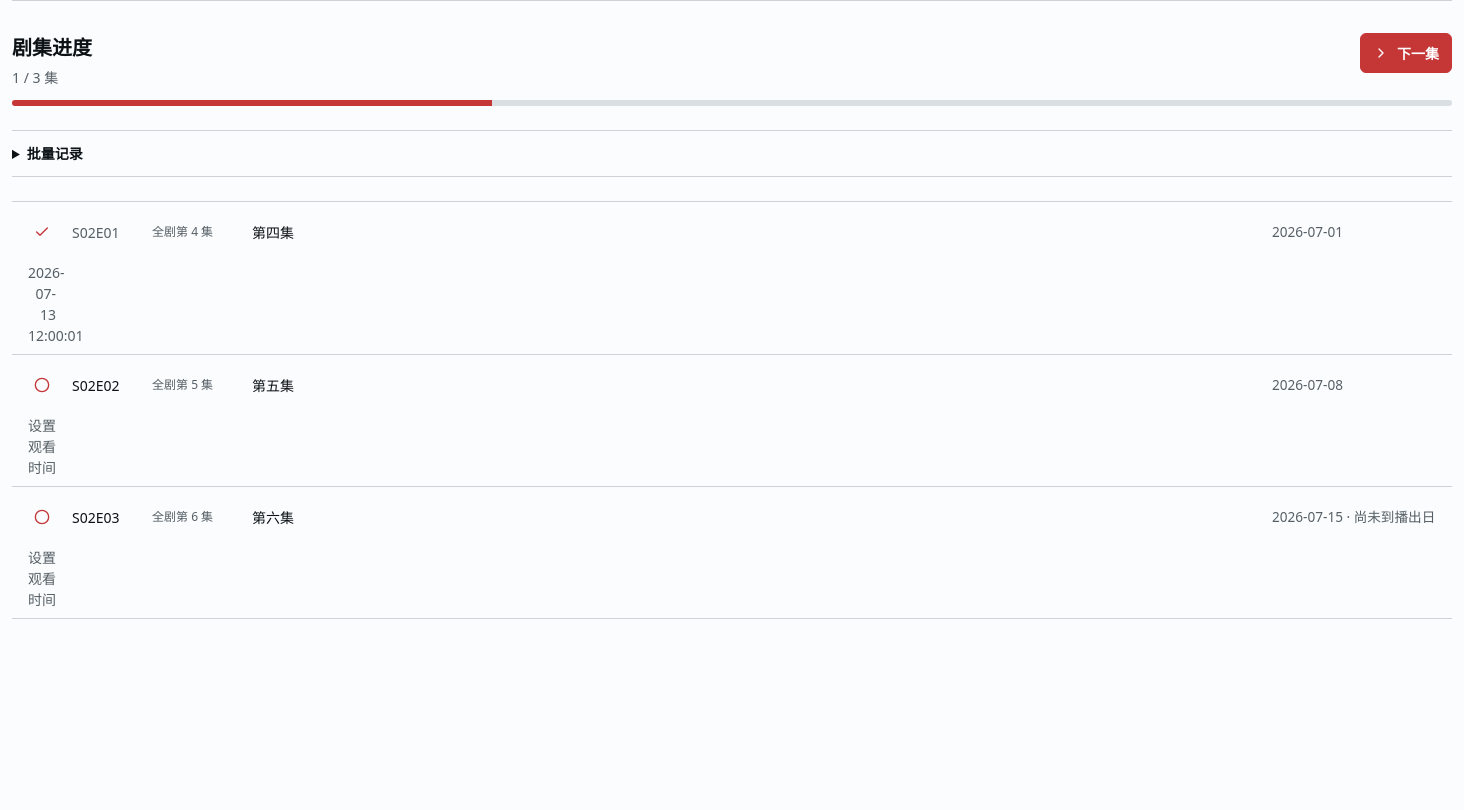
sets an unwatched episode time and then edits the watched time in place
Click the button with aria-label "设置 S02E02 观看时间": (42, 446) [20,415,64,478]
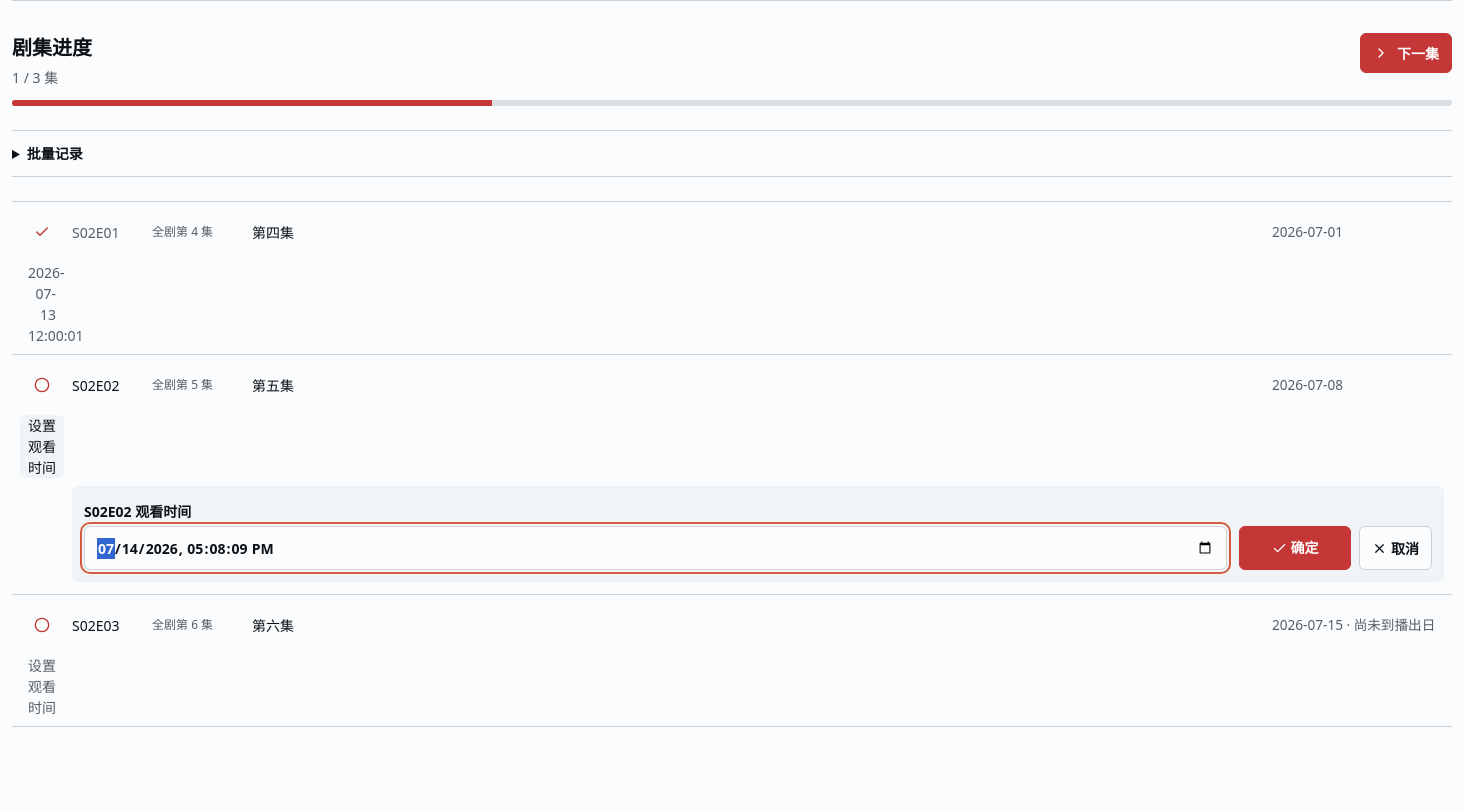
Replace the text in the field labelled "S02E02 观看时间" with "2026-07-12T11:10:12": (656, 548) [84,526,1227,570]
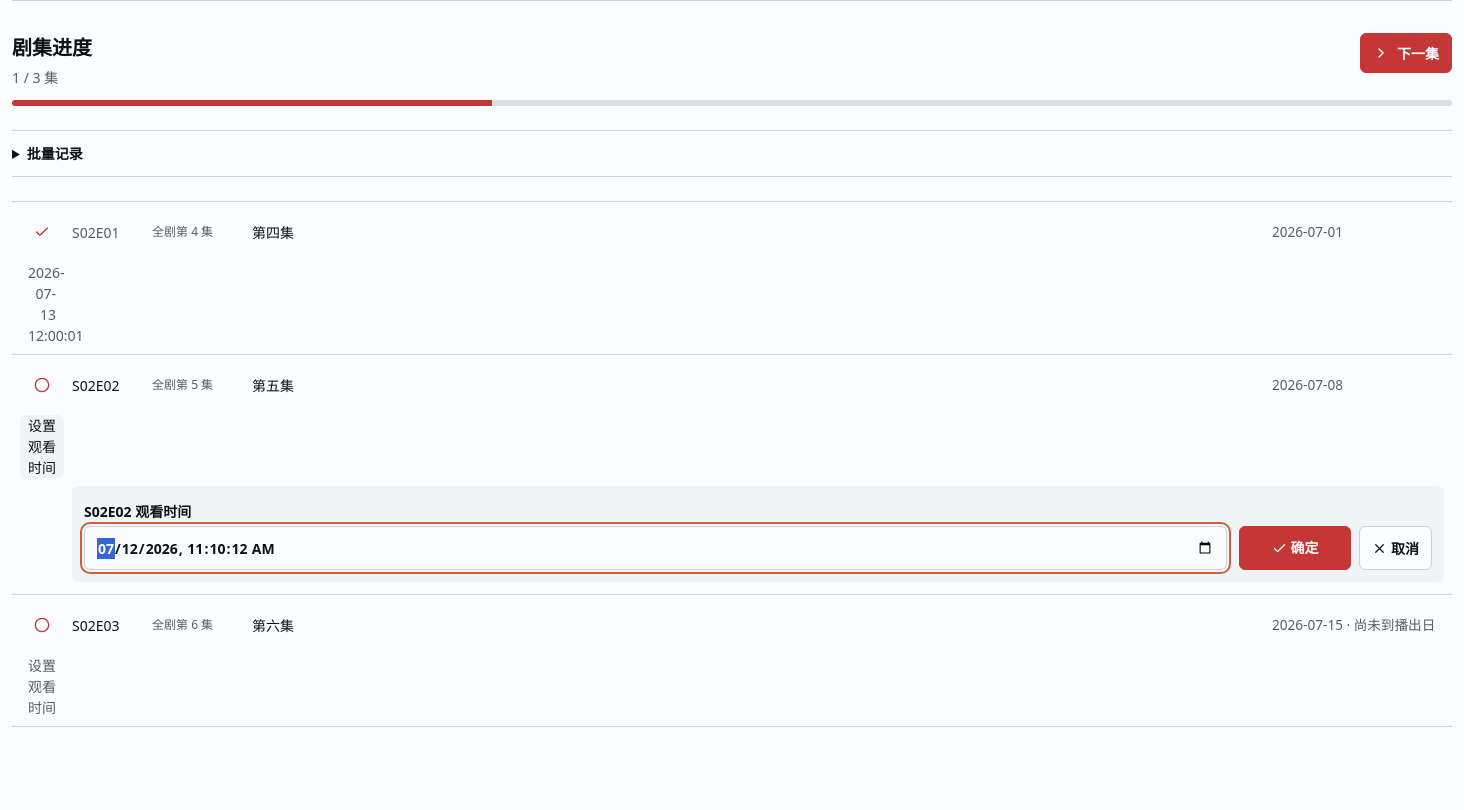
Click the button with aria-label "确定 S02E02 观看时间": (1295, 548) [1239,526,1351,570]
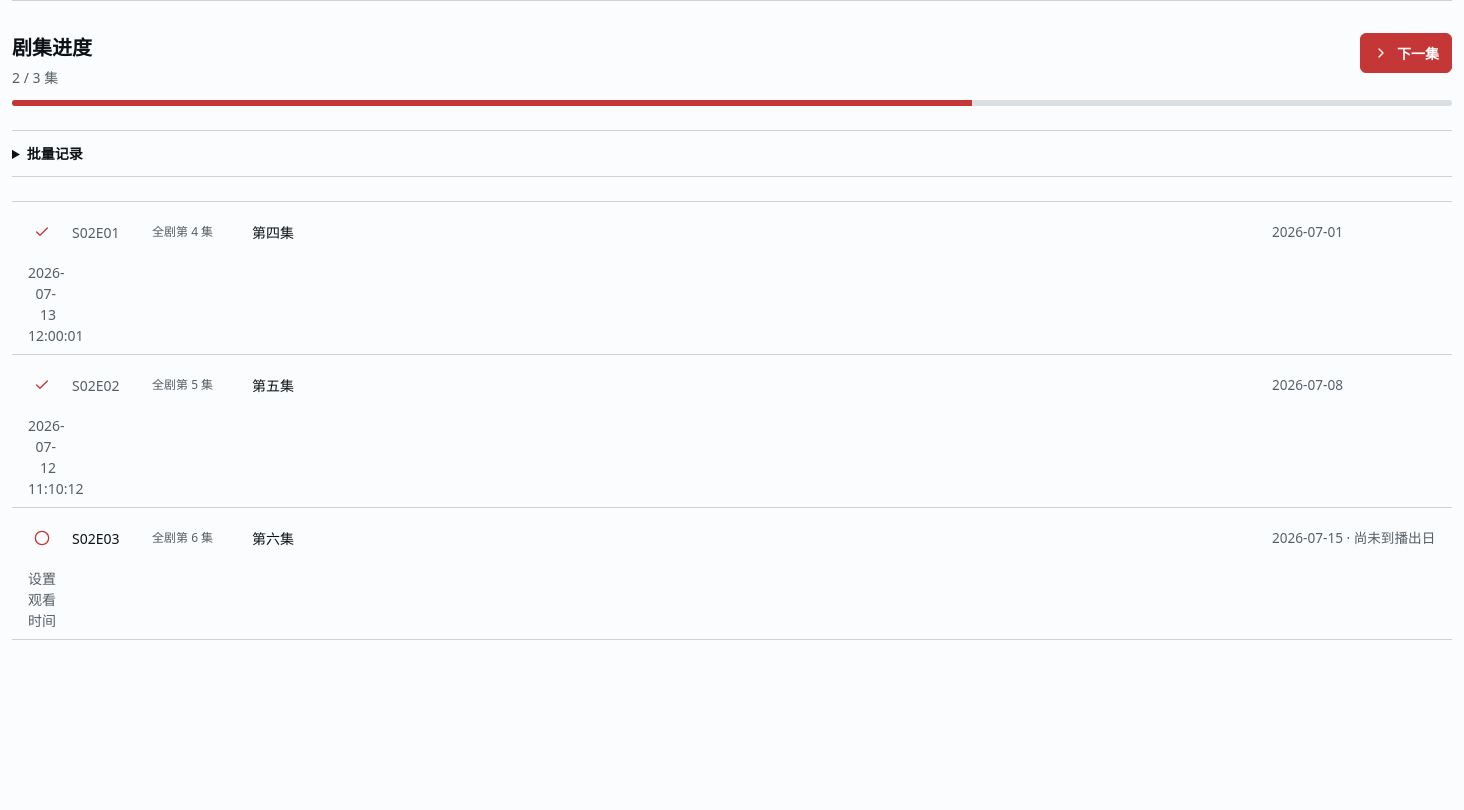
Expected: the button named "修改 S02E02 观看时间" reads "2026-07-12 11:10:12"
Click the button named "修改 S02E02 观看时间": (42, 457) [20,415,64,499]
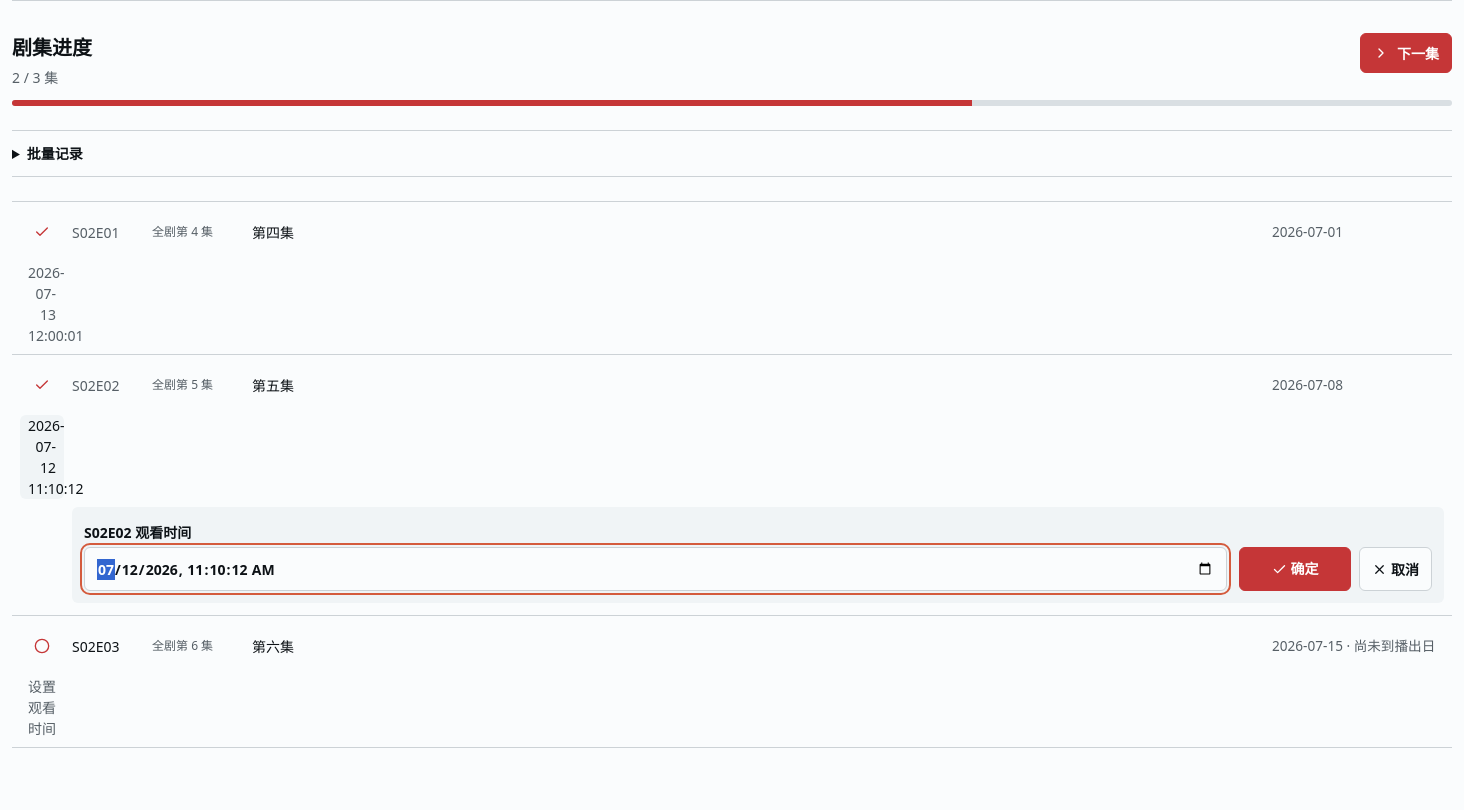
Replace the text in the field labelled "S02E02 观看时间" with "2026-07-13T09:08:07": (656, 569) [84,547,1227,591]
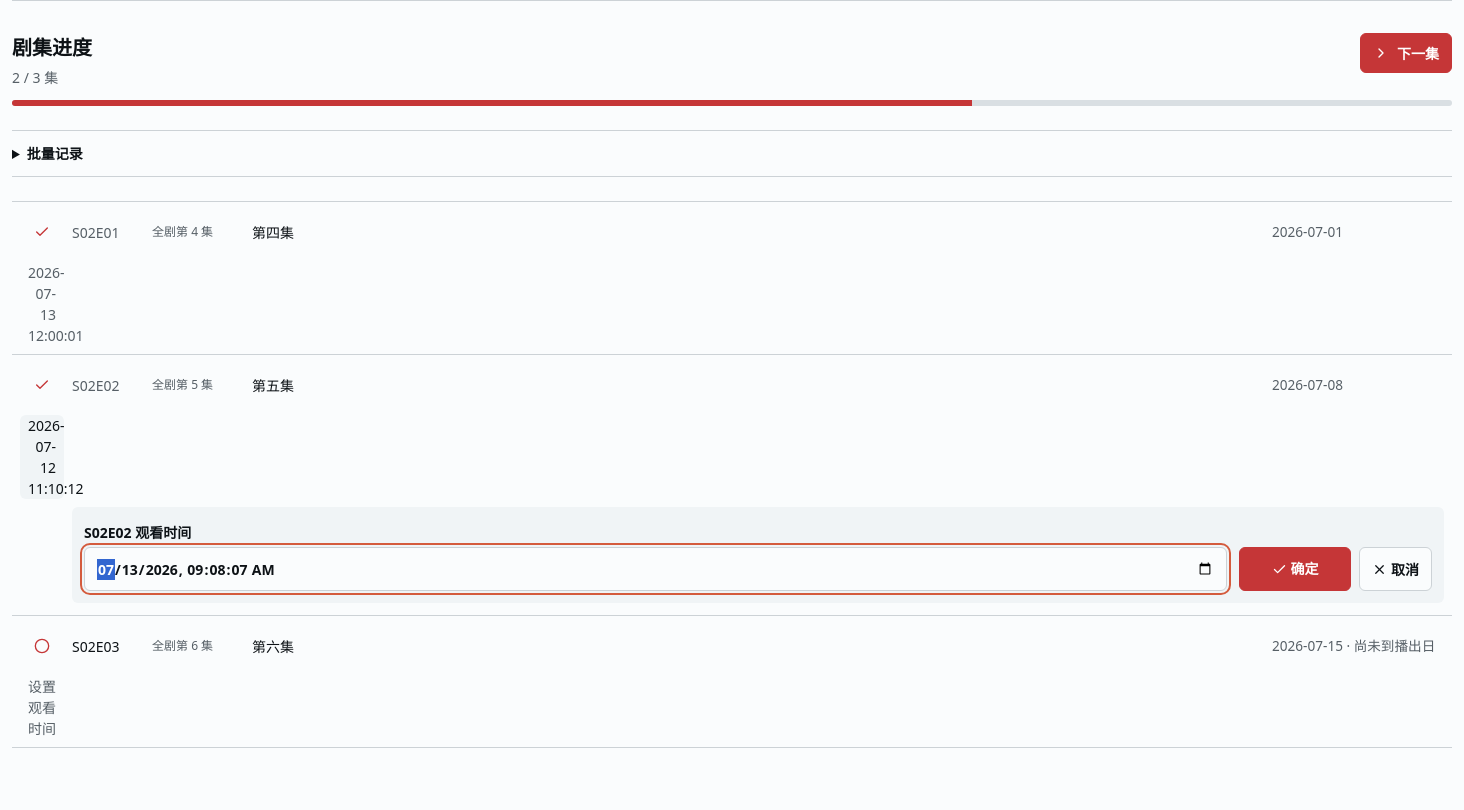
Click the button with aria-label "确定 S02E02 观看时间": (1295, 569) [1239,547,1351,591]
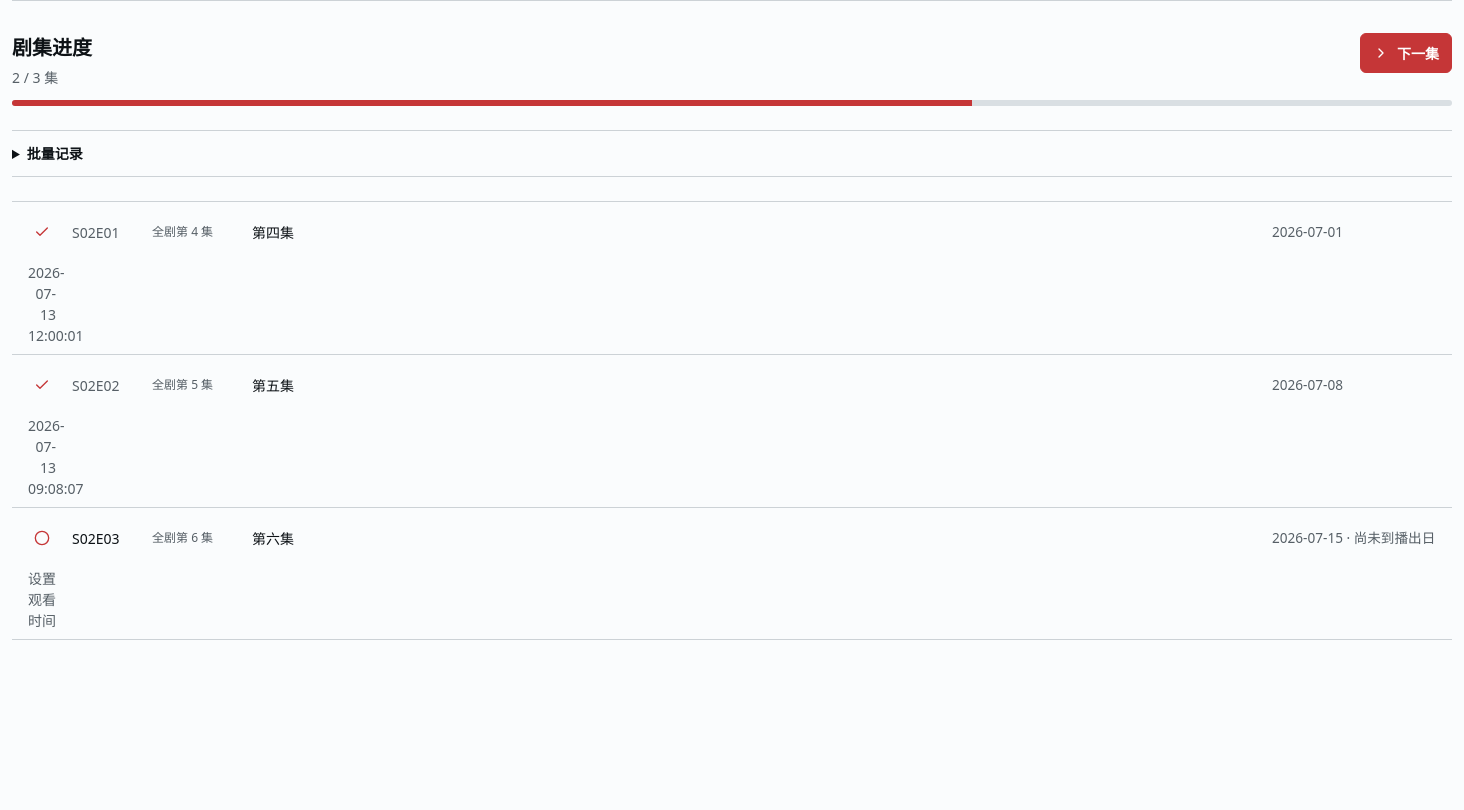
Expected: the button named "修改 S02E02 观看时间" reads "2026-07-13 09:08:07", [20,415,64,499]
